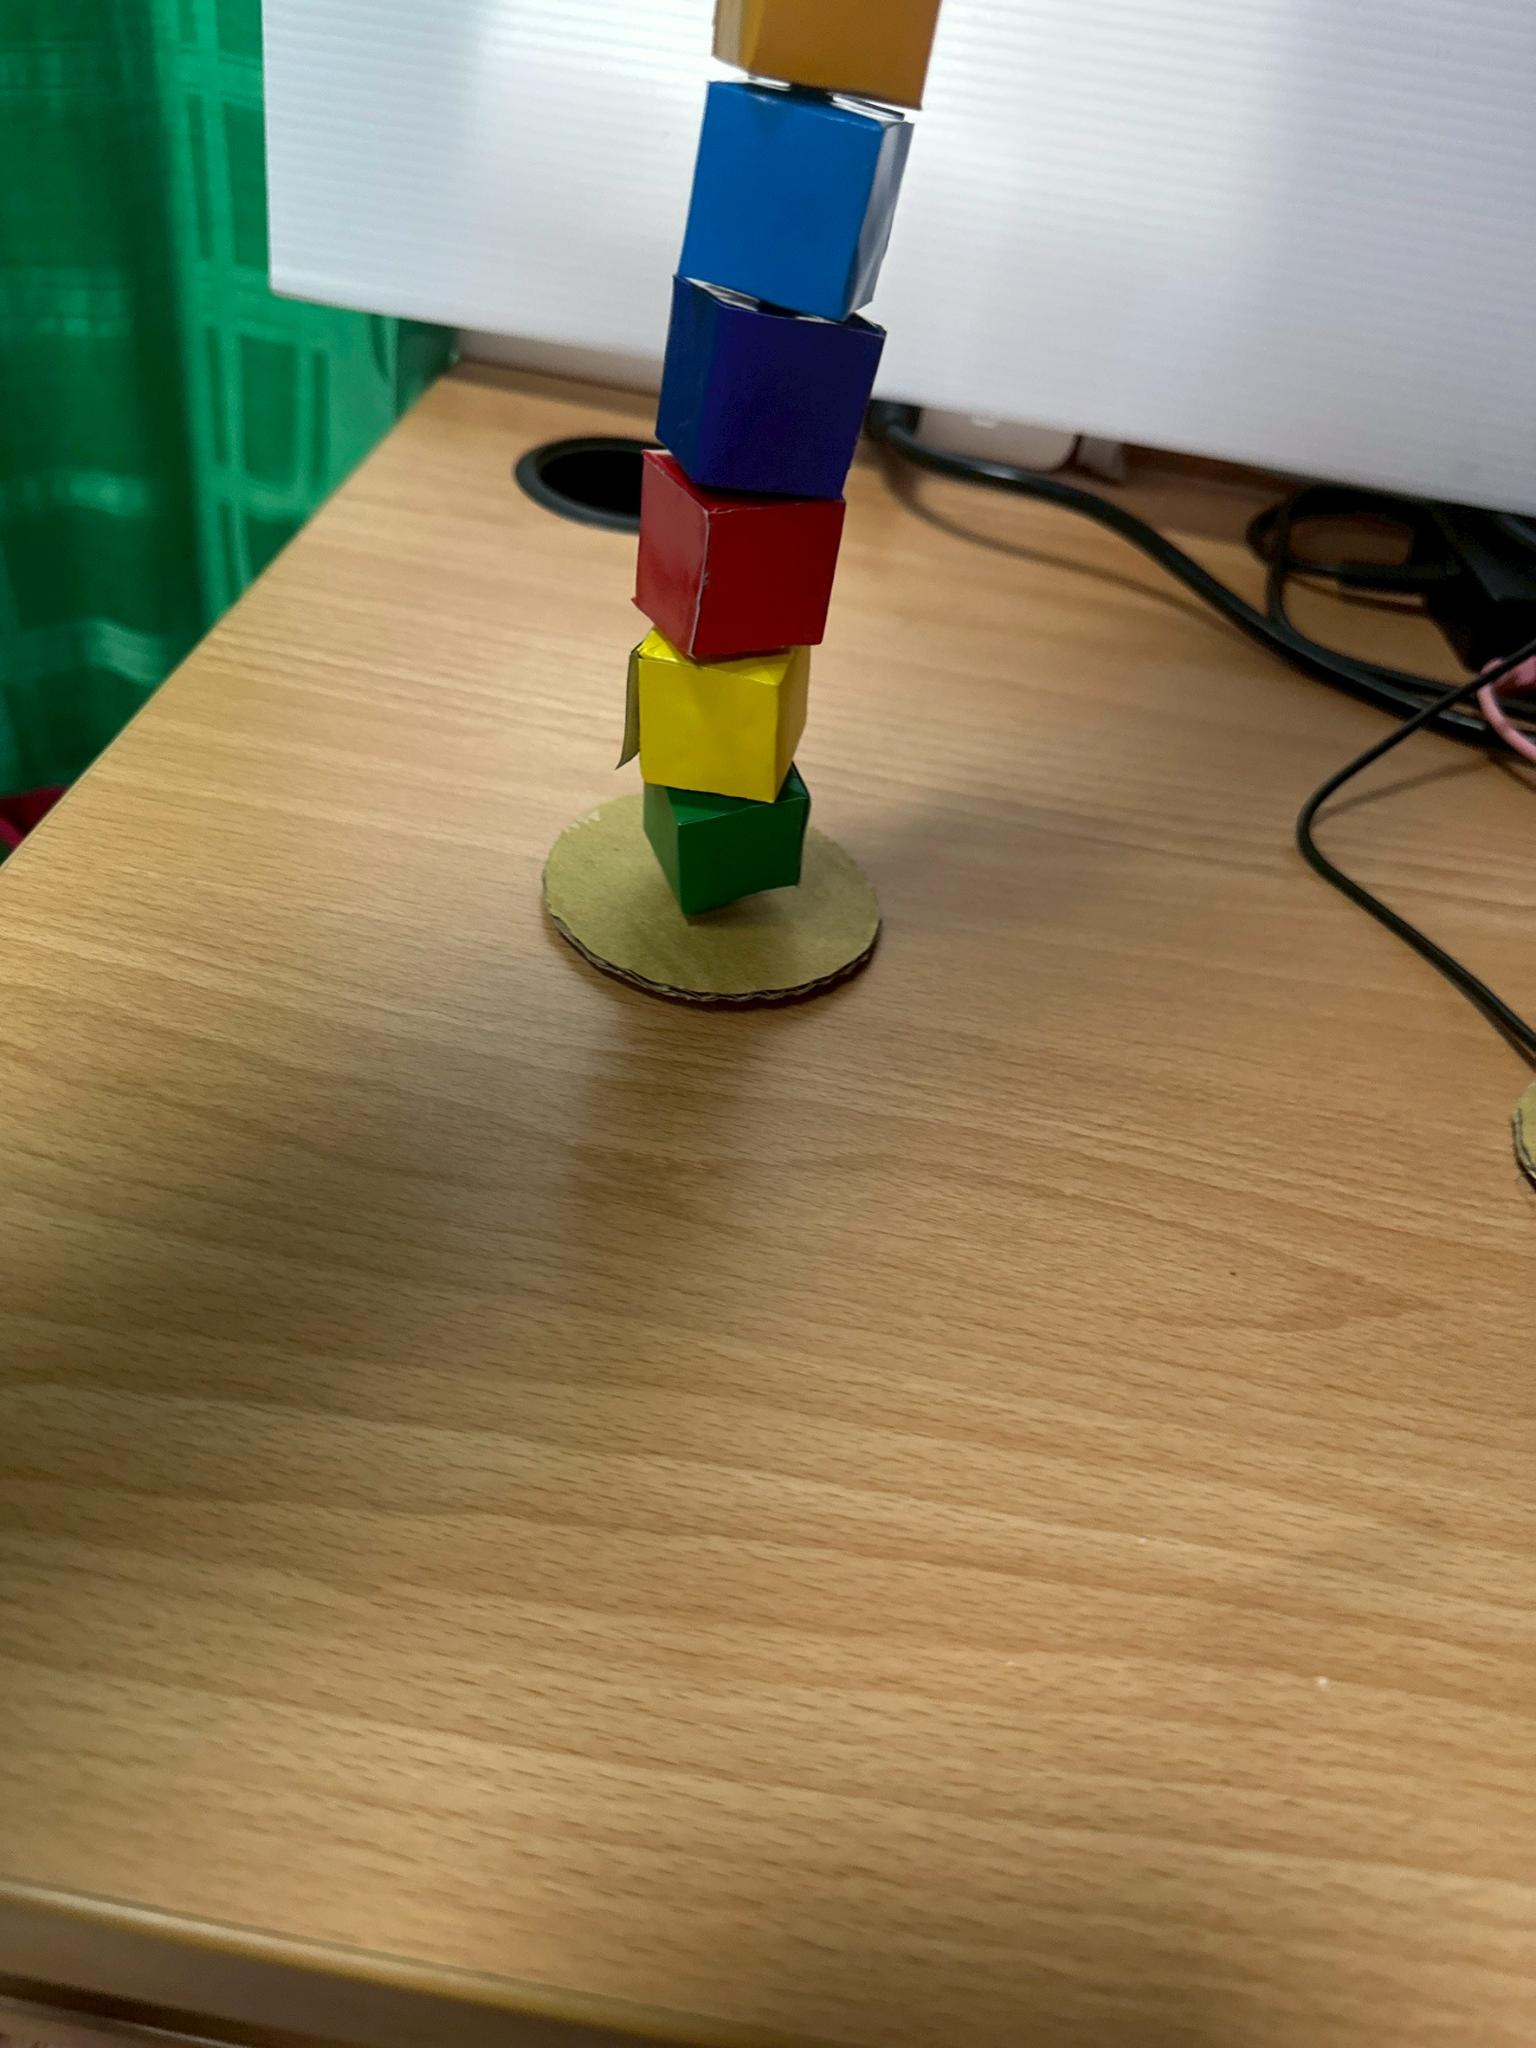base: (544, 795, 879, 1003)
